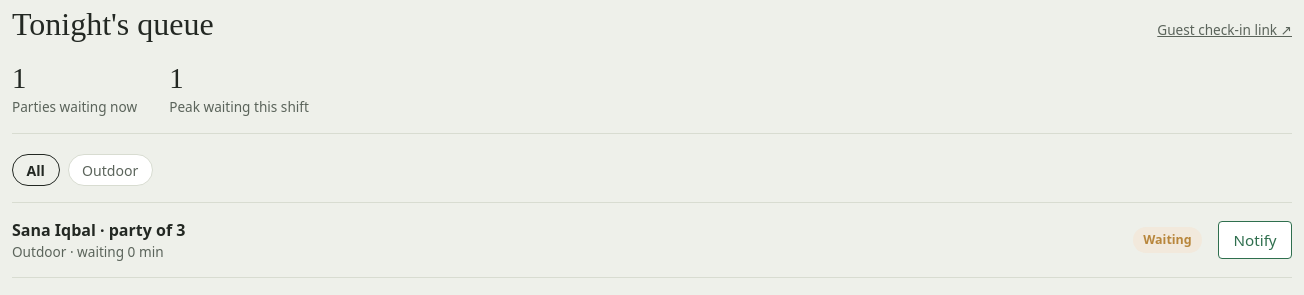
Scenario: HostBoardPage › moves a party to Notified when the host clicks Notify
Click the button "Notify".
click(1255, 240)  # box [1218,221,1292,259]
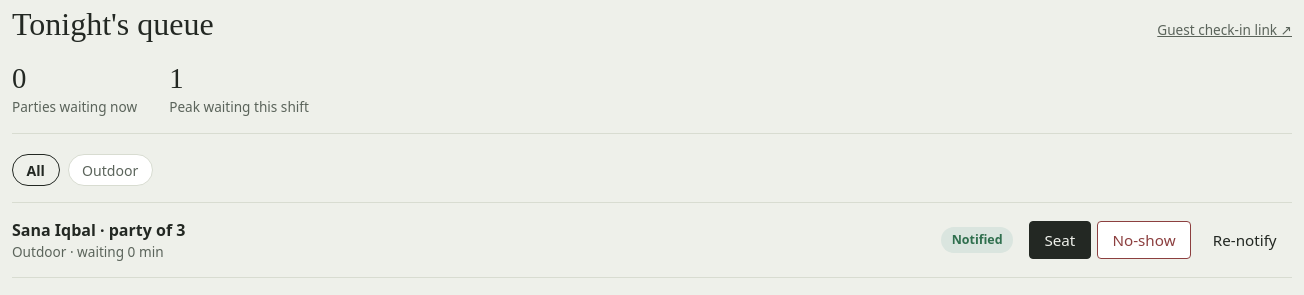
Expected: the text "Notified" is shown, [941,227,1013,252]
